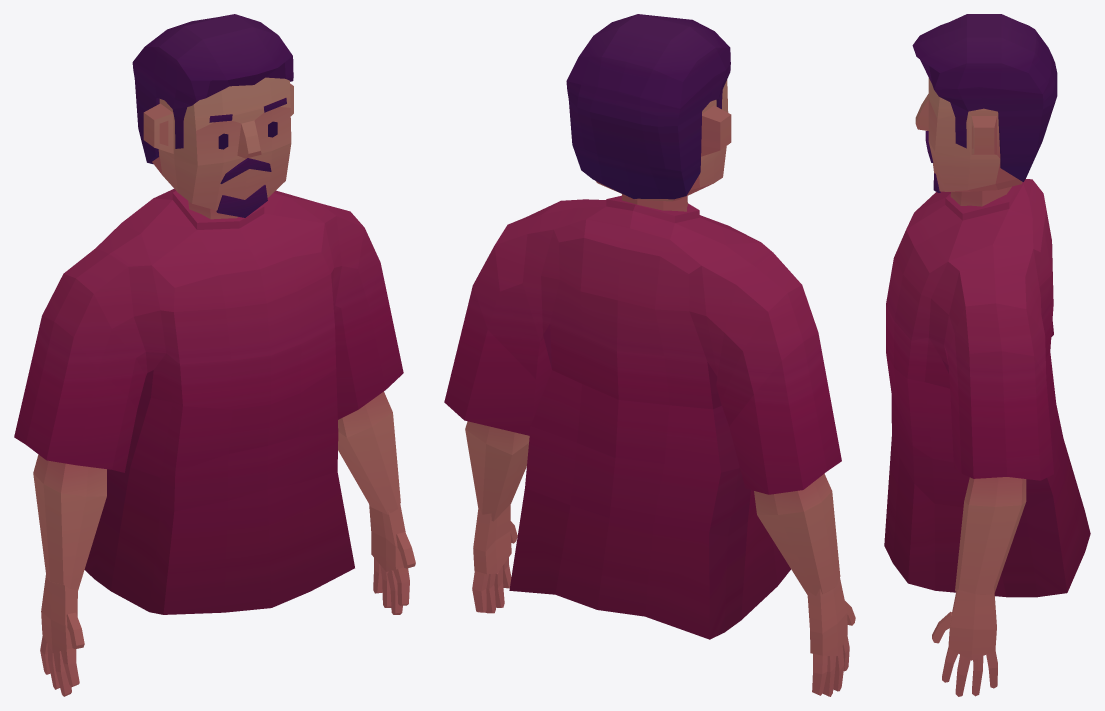
File: Boy_Red.glb
The picture shows the model from 3 angles, left to right: view 1: azimuth 30°, elevation 25°; view 2: azimuth 150°, elevation 25°; view 3: azimuth 270°, elevation 25°; orthographic projection. The views are drawn at different scales.
Visible parts, largest first — view 1: Boy_Red; view 2: Boy_Red; view 3: Boy_Red.
Boxes of the visible parts, left/top/right/bottom form: Boy_Red: left=14, top=14, right=415, bottom=696; Boy_Red: left=444, top=14, right=855, bottom=696; Boy_Red: left=884, top=14, right=1090, bottom=696.
Bounding box in the file's own units: 2.43 × 3.95 × 1.25.
1 material, 1 textured.
